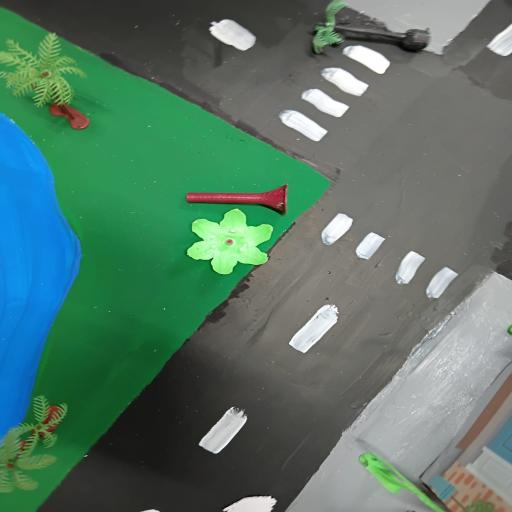fallen trees: (174, 173, 298, 276), (309, 0, 439, 64)
porthole: (215, 494, 282, 512)
